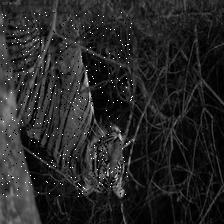tiger: (0, 12, 132, 197)
